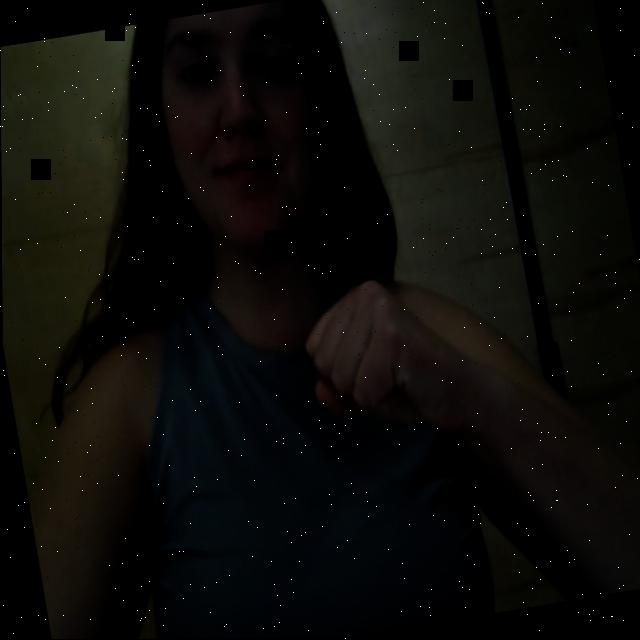Rock: (266, 236, 518, 483)
